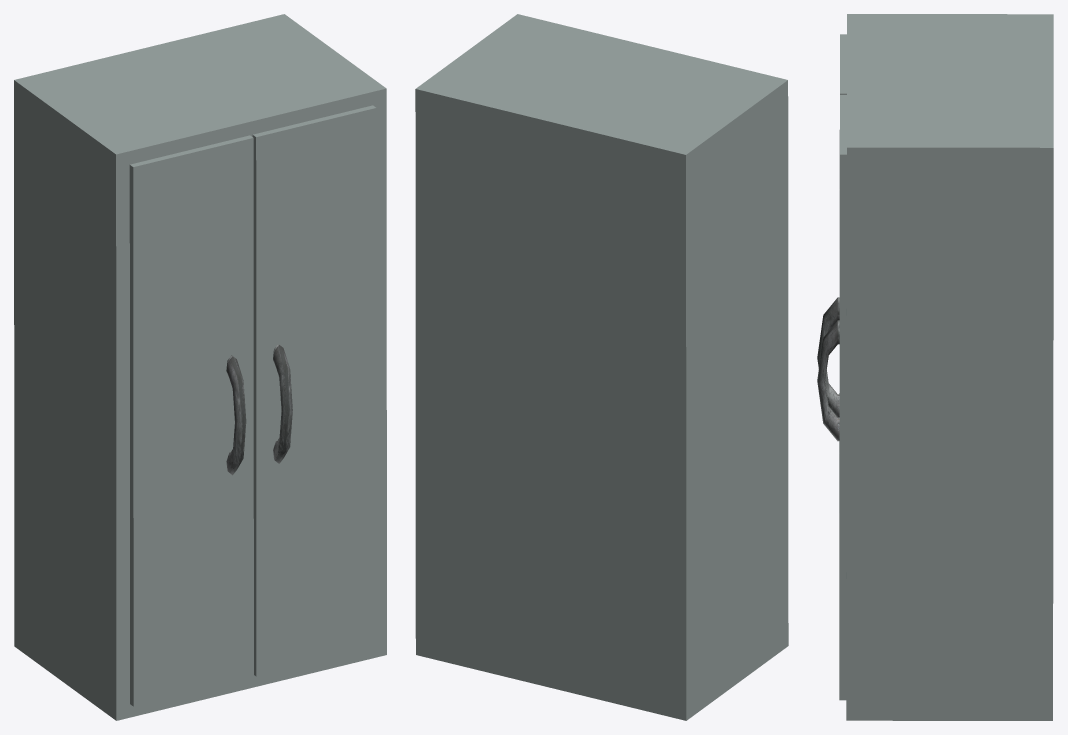
Rendered from room_shelf.glb.
3 views of the same model, side by side, from view 1: azimuth 30°, elevation 25°; view 2: azimuth 150°, elevation 25°; view 3: azimuth 270°, elevation 25° (orthographic).
Parts seen in each view (by area): view 1: armario.004_madeira.001_0.001, armario.004_metal.003_0.001; view 2: armario.004_madeira.001_0.001; view 3: armario.004_madeira.001_0.001, armario.004_metal.003_0.001.
Boxes of the visible parts, <box> form: armario.004_madeira.001_0.001: <box>14,14,386,720</box>; armario.004_metal.003_0.001: <box>226,344,292,475</box>; armario.004_madeira.001_0.001: <box>415,14,788,720</box>; armario.004_madeira.001_0.001: <box>839,14,1053,720</box>; armario.004_metal.003_0.001: <box>817,297,839,441</box>.
Bounding box in the file's own units: 1.11 × 2.23 × 0.8318.
Materials: 2 (1 with a texture image).
